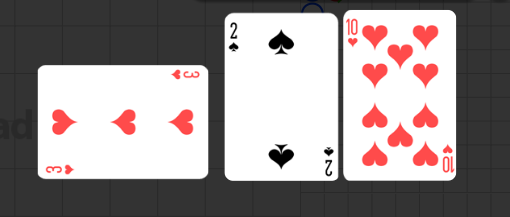10H: (440, 141, 454, 173)
2S: (322, 144, 335, 177)
